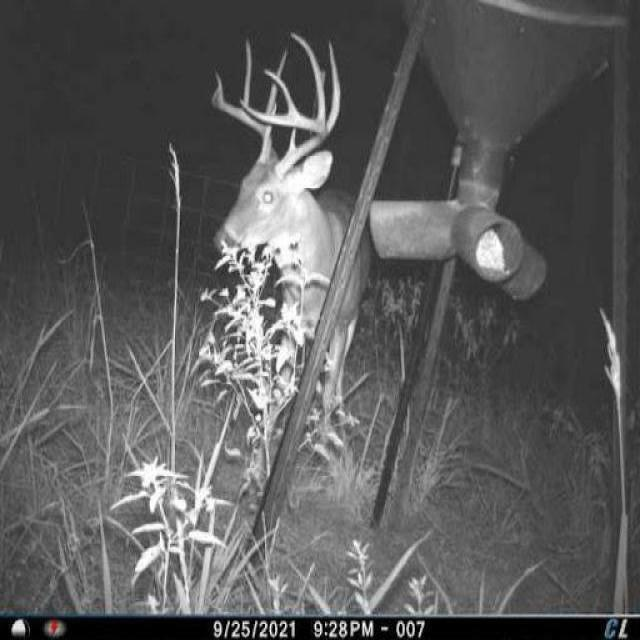deer: (200, 28, 371, 491)
